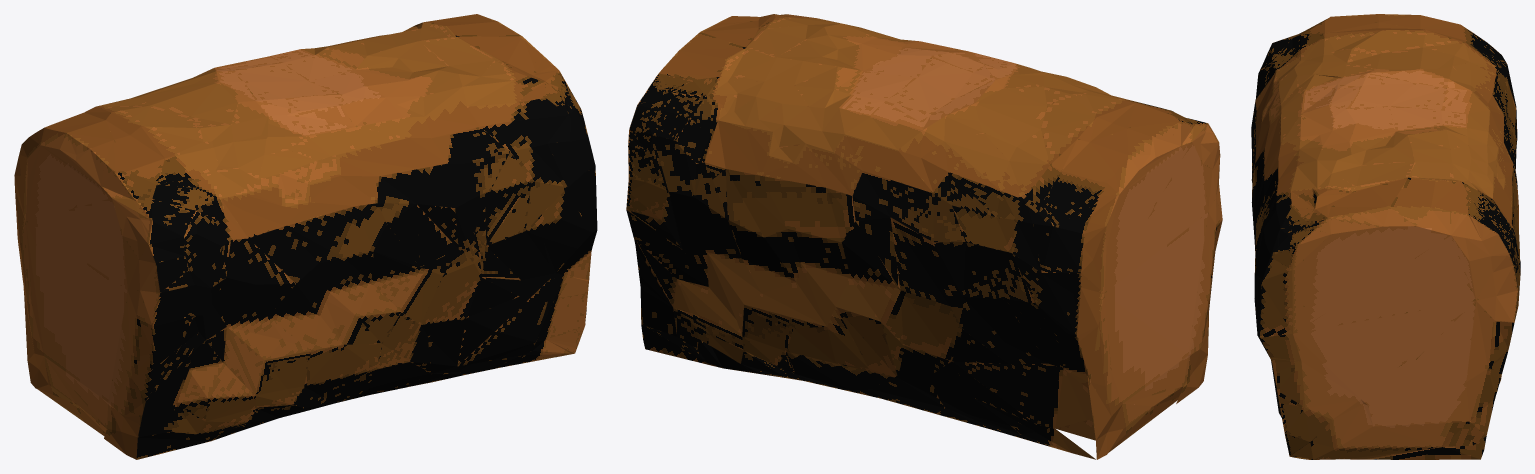
3 views of the same model, side by side, from view 1: azimuth 30°, elevation 25°; view 2: azimuth 150°, elevation 25°; view 3: azimuth 270°, elevation 25° (orthographic). The views are drawn at different scales.
Parts seen in each view (by area): view 1: OBJ0b1; view 2: OBJ0b1; view 3: OBJ0b1.
Part boxes in pixels (left/top/right/bottom): OBJ0b1: left=14, top=14, right=597, bottom=459; OBJ0b1: left=626, top=14, right=1222, bottom=459; OBJ0b1: left=1251, top=14, right=1520, bottom=459.
Size of the model in its own units: 0.3712 by 0.2241 by 0.2092.
1 material, 1 textured.
